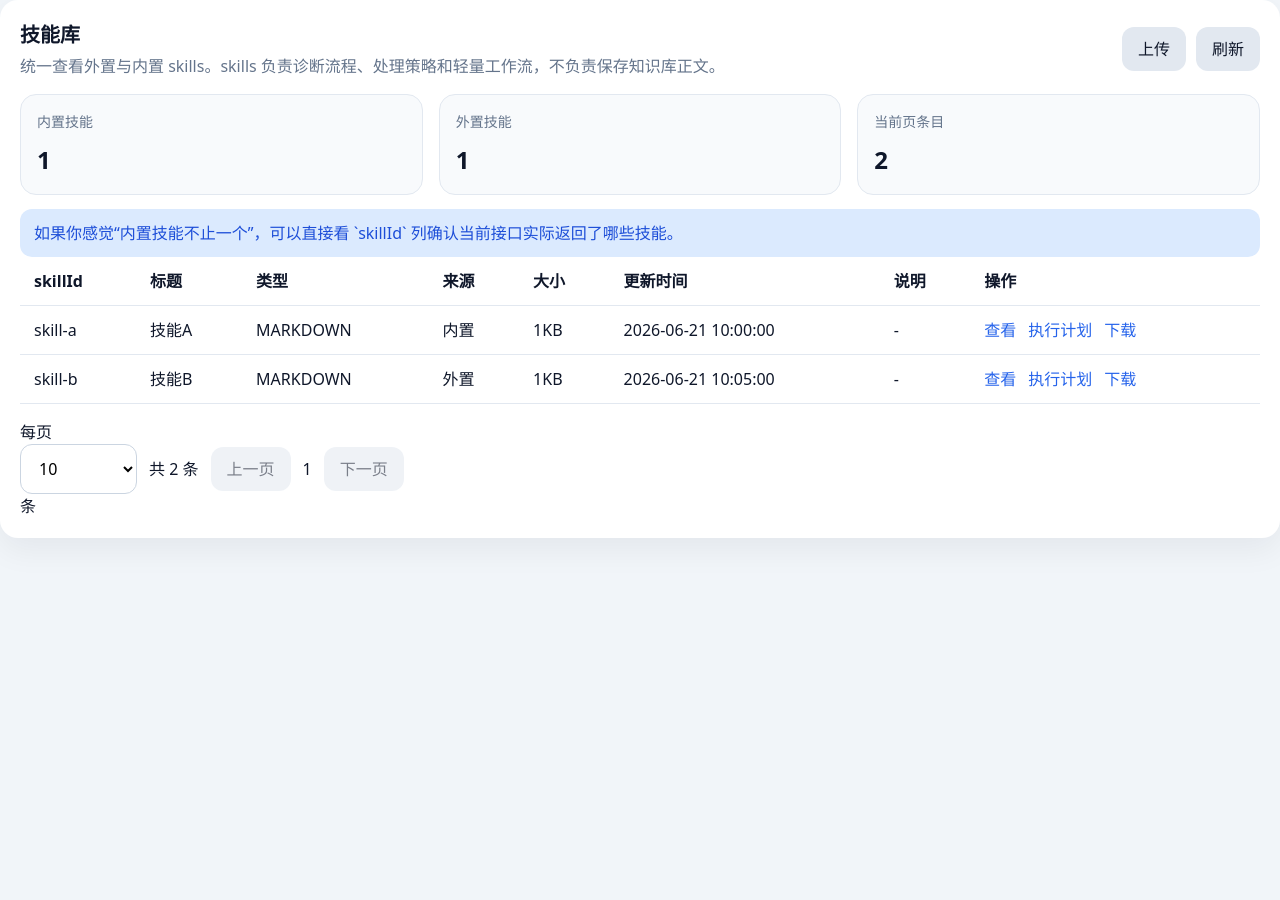
Test: SkillsPage › 执行计划读取失败后仍可切换到其他技能继续查看
Expected: the text "技能A" is shown, [136,306,242,354]
Click the button "执行计划" in the row of "skill-a".
click(1060, 330)  # box [1028,318,1092,342]
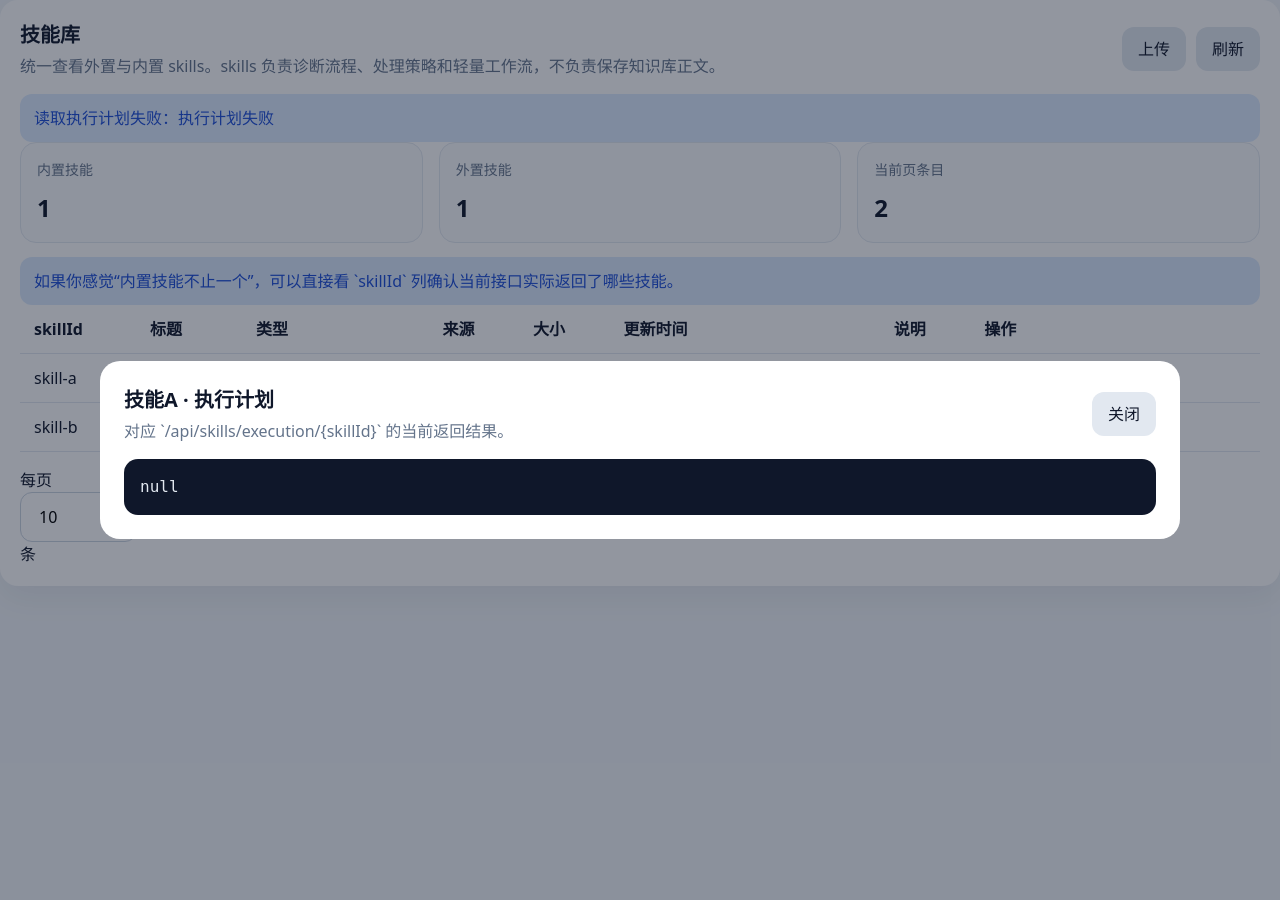
Expected: the text "读取执行计划失败：执行计划失败" is shown, [20,94,1260,142]
Expected: the heading "技能A · 执行计划" is shown, [124,386,274,413]
Click the button "关闭".
click(1124, 414)  # box [1092,392,1156,436]
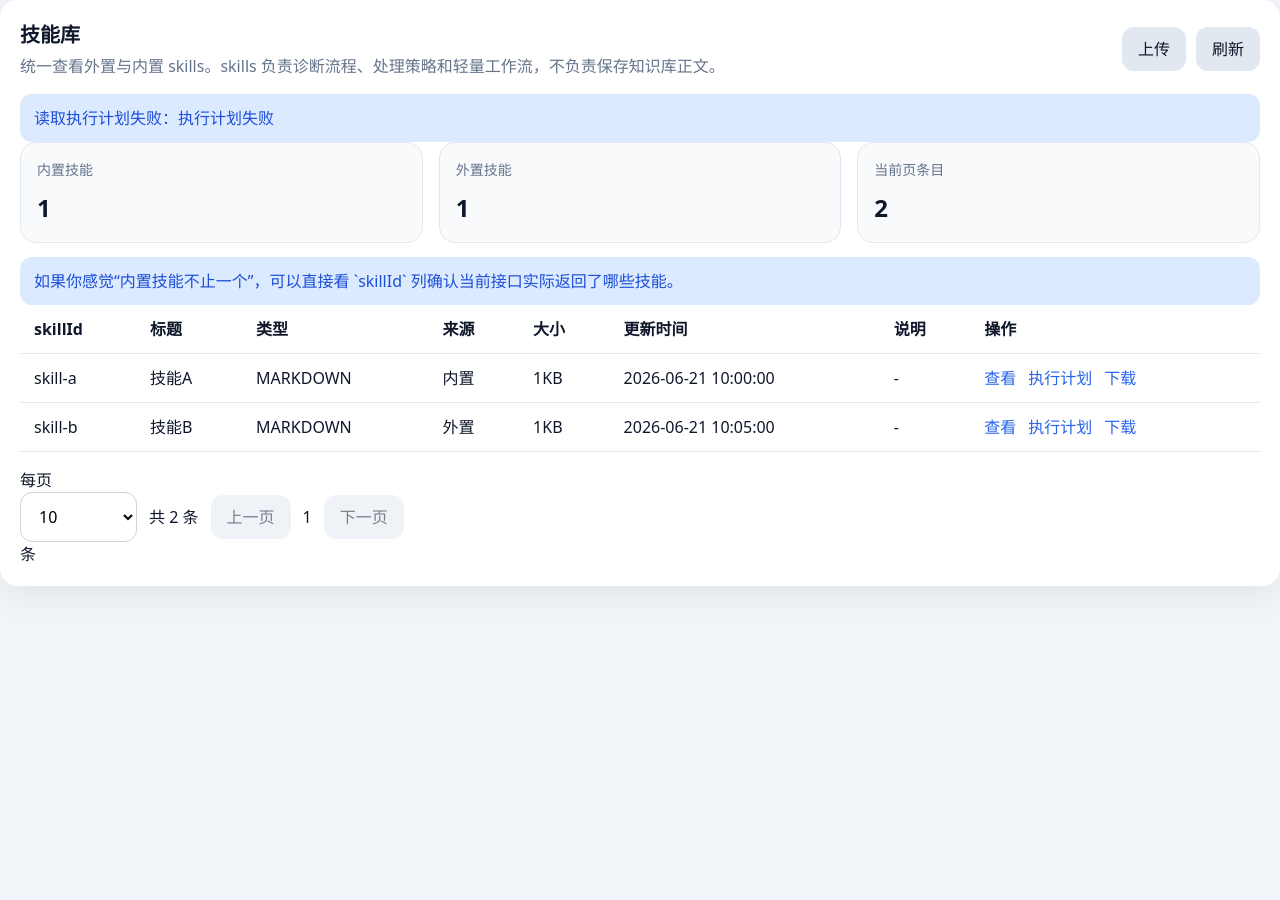
Expected: the heading "技能A · 执行计划" is gone
Click the button "执行计划" in the row of "skill-b".
click(1060, 427)  # box [1028,415,1092,439]
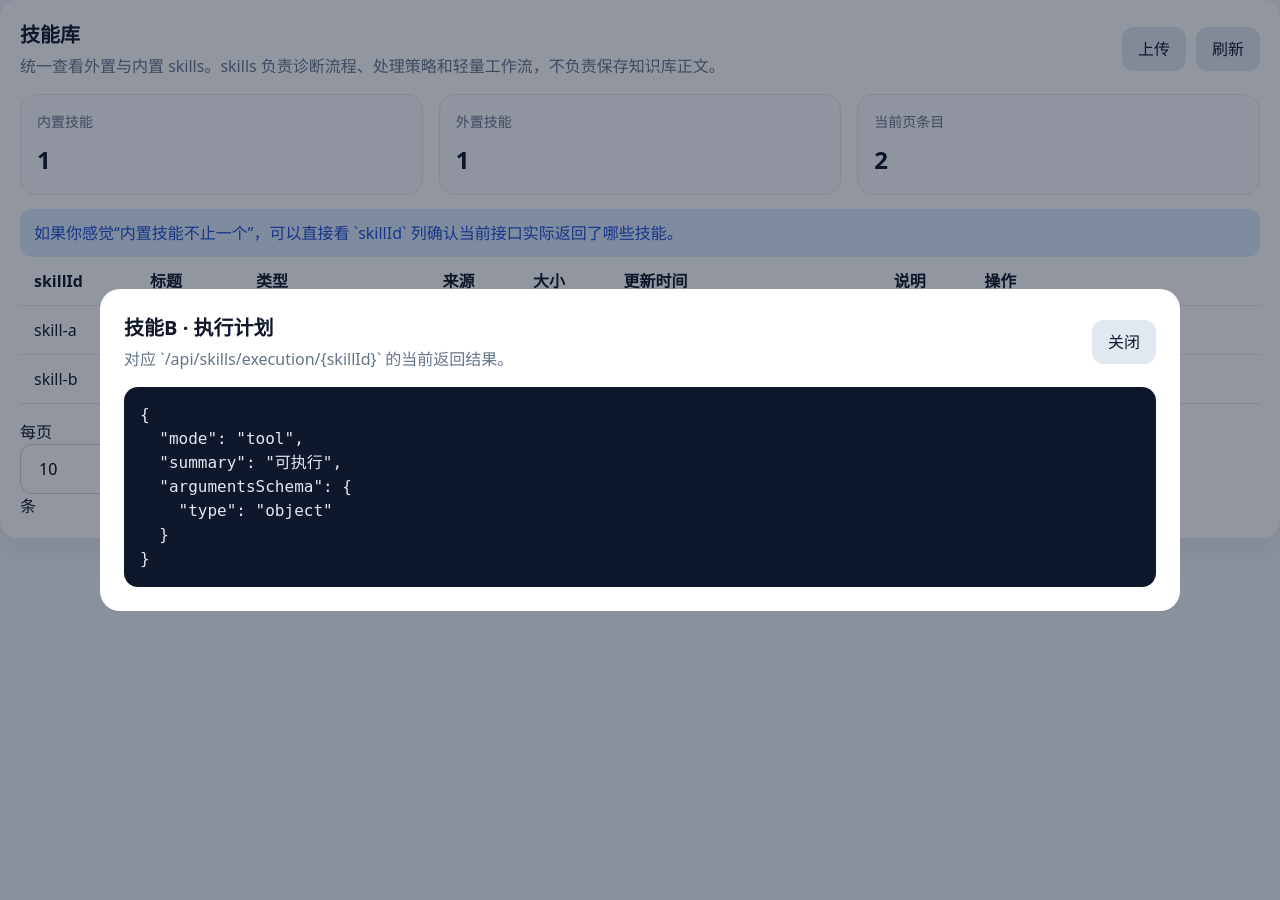
Expected: the heading "技能B · 执行计划" is shown, [124,314,274,341]
Expected: the text "\"summary\": \"可执行\"" is shown, [140,405,352,568]
